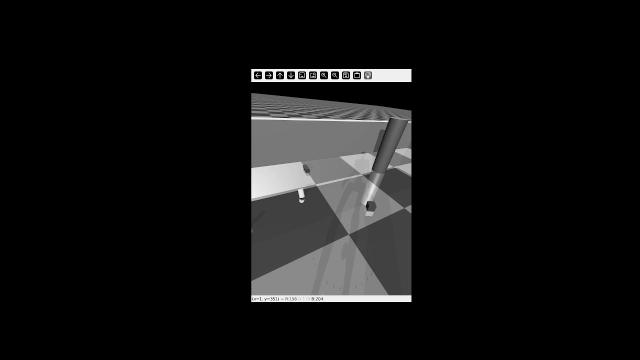cilindro: (369, 108, 412, 174), (298, 160, 312, 178), (296, 183, 307, 202)
cuadrado: (363, 193, 378, 214)
